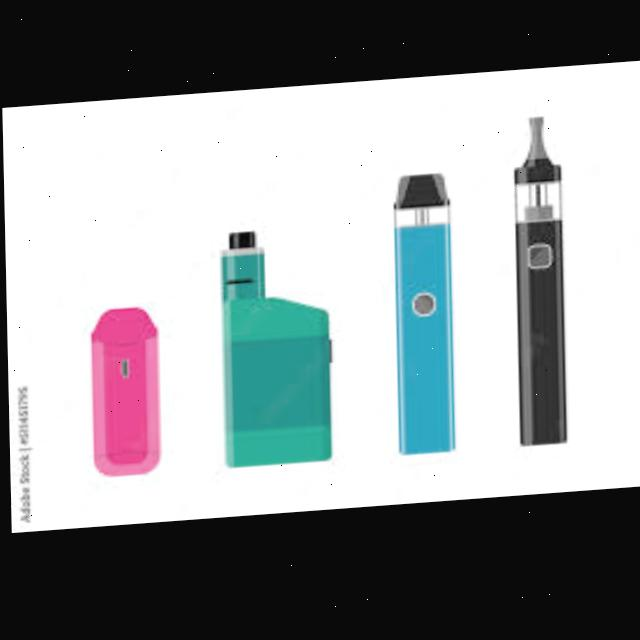vape: (219, 229, 334, 472), (391, 176, 455, 463), (511, 123, 566, 455), (89, 307, 161, 480)
